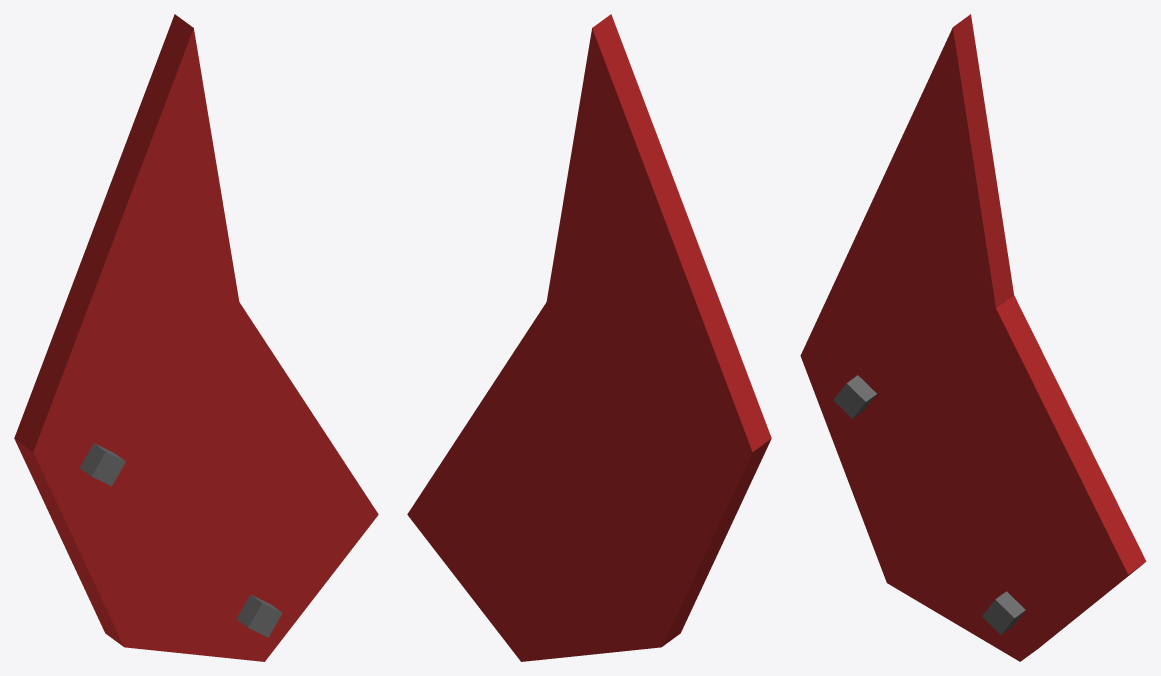
Rendered from Prop_Building_Savage_Metal_Plated_Sheet_Loose_02.FBX.
3 views of the same model, side by side, from view 1: azimuth 30°, elevation 25°; view 2: azimuth 150°, elevation 25°; view 3: azimuth 330°, elevation 25° (orthographic). The views are drawn at different scales.
Visible parts, largest first — view 1: Prop_Building_Savage_Metal_Plated_Sheet_Loose_02; view 2: Prop_Building_Savage_Metal_Plated_Sheet_Loose_02; view 3: Prop_Building_Savage_Metal_Plated_Sheet_Loose_02.
Part boxes in pixels (x1,y1,x2,y2): Prop_Building_Savage_Metal_Plated_Sheet_Loose_02: (14,14,378,661); Prop_Building_Savage_Metal_Plated_Sheet_Loose_02: (407,14,771,661); Prop_Building_Savage_Metal_Plated_Sheet_Loose_02: (800,14,1146,661).
Size of the model in its own units: 945 by 1702 by 147.
